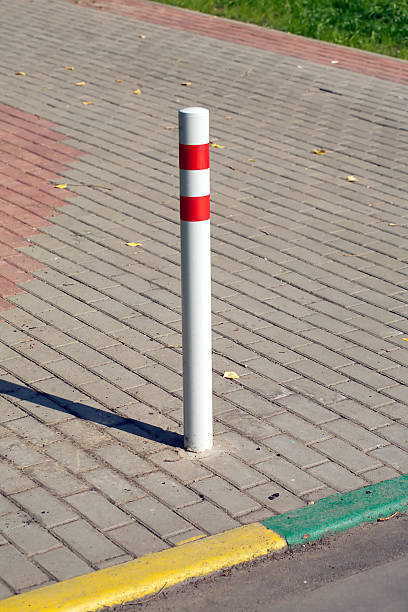bollard: (163, 96, 224, 459)
